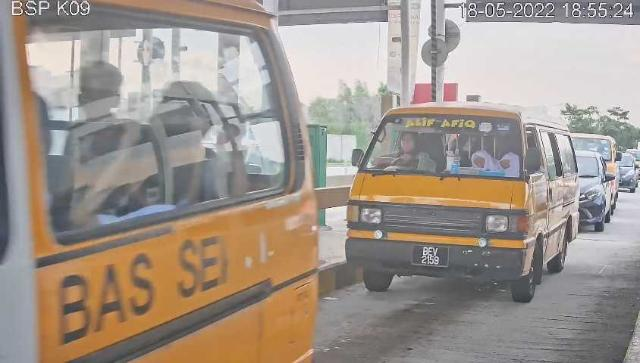License_Plate: (411, 245, 451, 271)
van: (346, 105, 580, 306)
